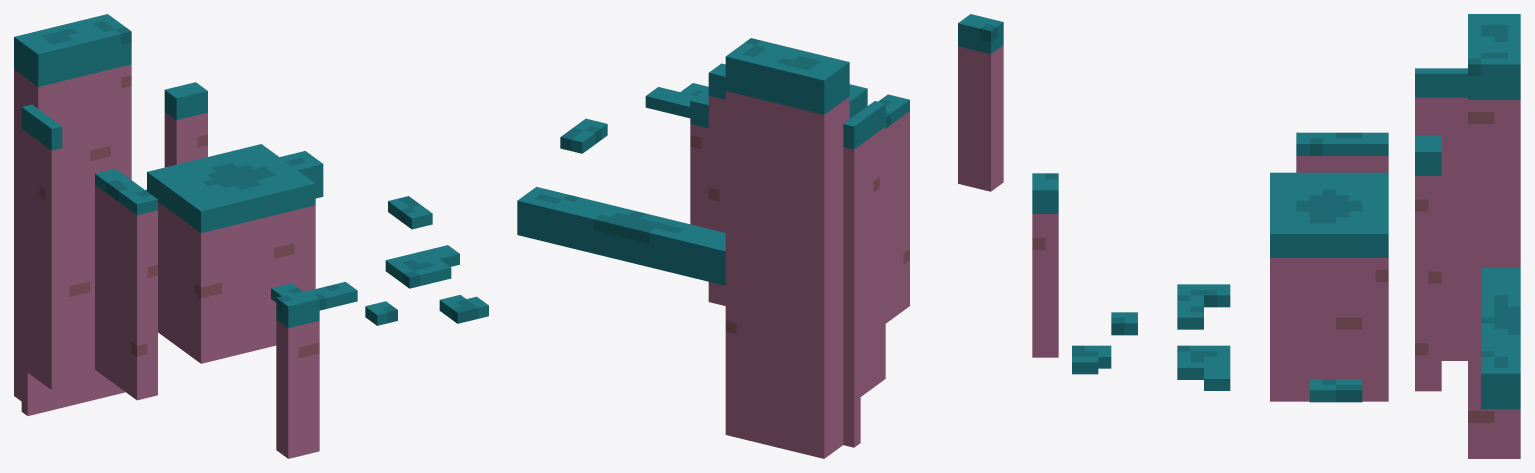
The model's file is TestMap.obj.
3 views of the same model, side by side, from view 1: azimuth 30°, elevation 25°; view 2: azimuth 150°, elevation 25°; view 3: azimuth 270°, elevation 25° (orthographic). The views are drawn at different scales.
Parts seen in each view (by area): view 1: TestMap; view 2: TestMap; view 3: TestMap.
Part boxes in pixels (left/top/right/bottom): TestMap: left=14, top=14, right=488, bottom=458; TestMap: left=517, top=14, right=1003, bottom=458; TestMap: left=1032, top=14, right=1520, bottom=458.
Bounding box in the file's own units: 32 × 33 × 37.
Materials: 1 (1 with a texture image).
